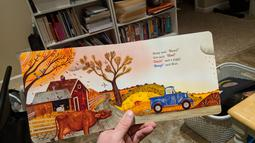text block: (150, 46, 184, 69)
